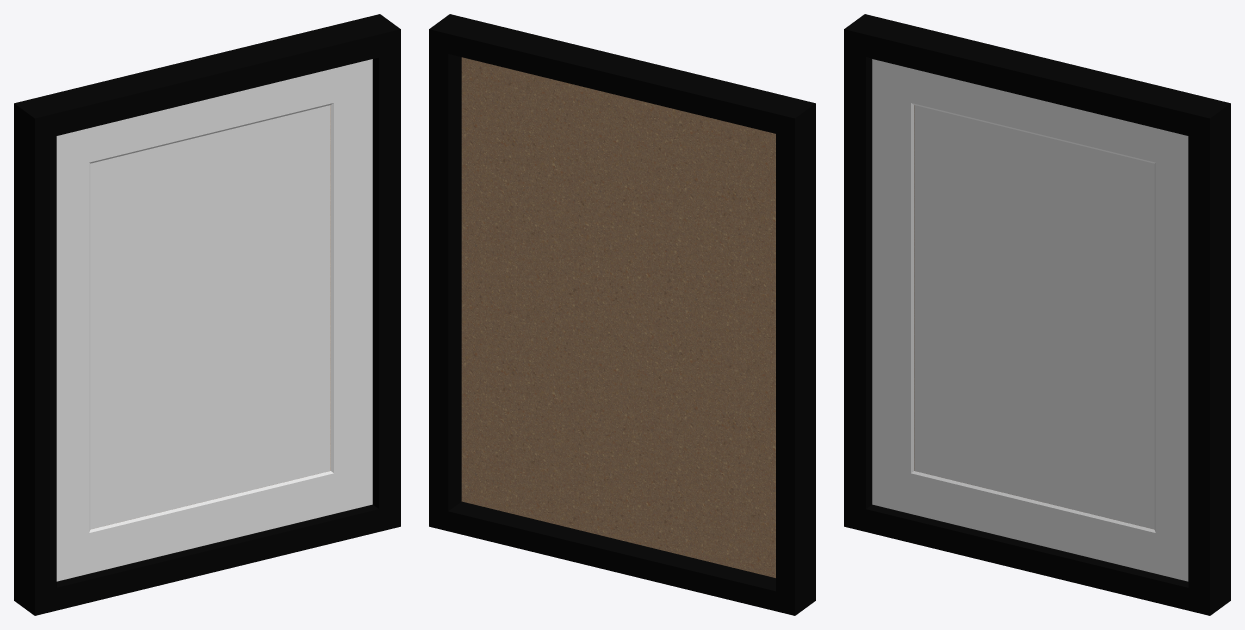
File: ppt-black-frame-portrait-empty.glb
The picture shows the model from 3 angles, left to right: view 1: azimuth 30°, elevation 25°; view 2: azimuth 150°, elevation 25°; view 3: azimuth 330°, elevation 25°; orthographic projection.
Parts seen in each view (by area): view 1: Glass, Motif, Frame, Passepartout; view 2: Back, Frame; view 3: Glass, Motif, Frame, Passepartout.
Boxes of the visible parts, bbox=[...] form: Glass: bbox=[57, 59, 372, 581]; Motif: bbox=[90, 105, 330, 529]; Frame: bbox=[14, 14, 400, 615]; Passepartout: bbox=[56, 59, 372, 581]; Back: bbox=[461, 57, 775, 577]; Frame: bbox=[429, 14, 815, 615]; Glass: bbox=[872, 59, 1187, 581]; Motif: bbox=[914, 105, 1154, 529]; Frame: bbox=[844, 14, 1230, 615]; Passepartout: bbox=[872, 59, 1188, 581].
Bounding box in the file's own units: 0.335 × 0.435 × 0.033.
5 materials, 2 textured.
